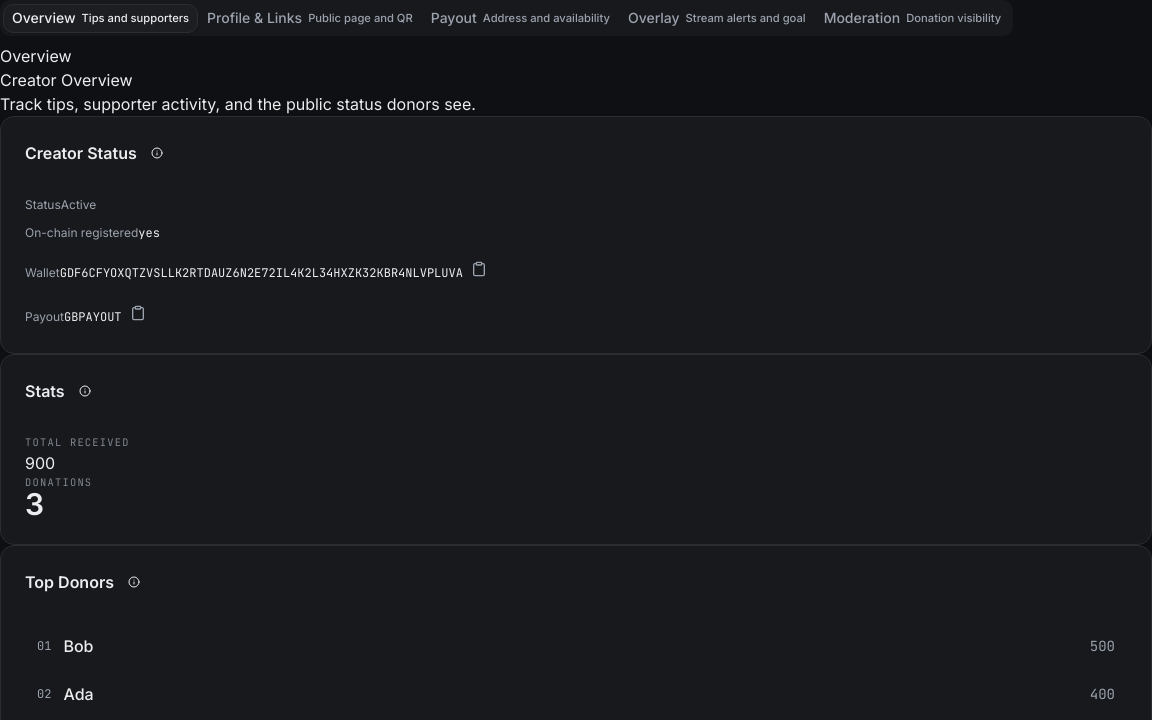
ActiveGate - donation goal › renders the Donation Goal card empty state when no goal is set
Click the tab "Overlay Stream alerts and goal".
click(717, 18)  # box left=619, top=4, right=815, bottom=32
(page scrolled)
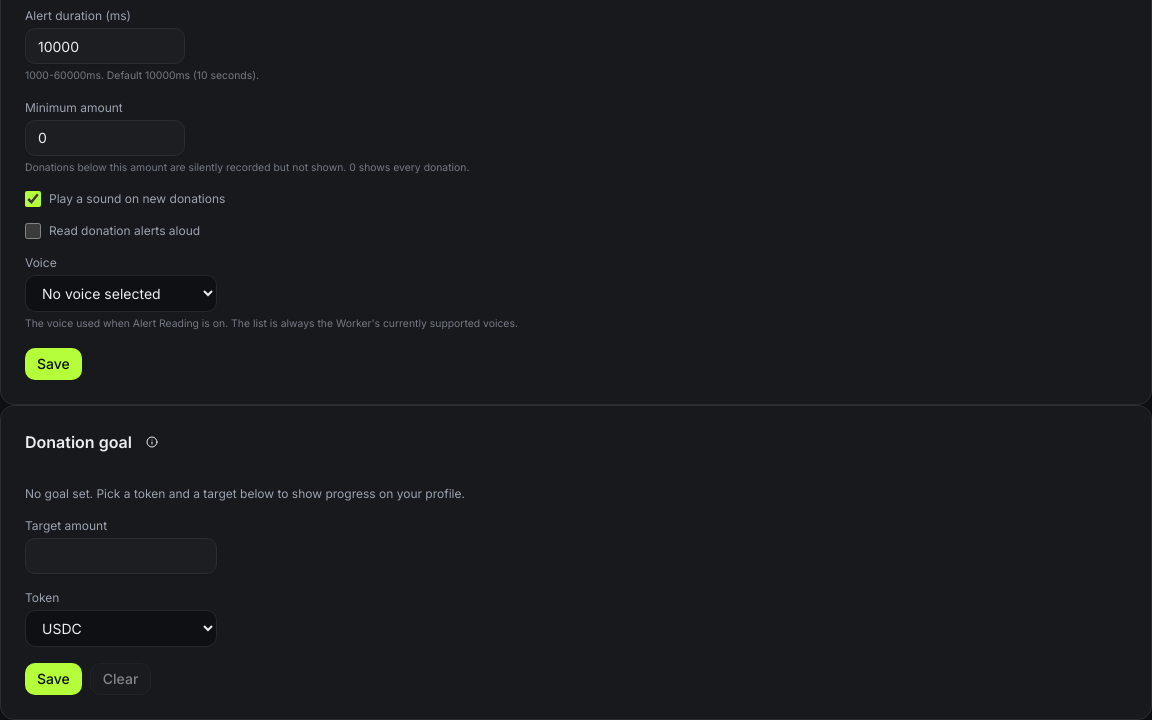
Expected: the element with test id "donation-goal-card" is shown, left=25, top=486, right=465, bottom=695
Expected: the text with test id "donation-goal-empty" is shown, left=25, top=486, right=465, bottom=501
